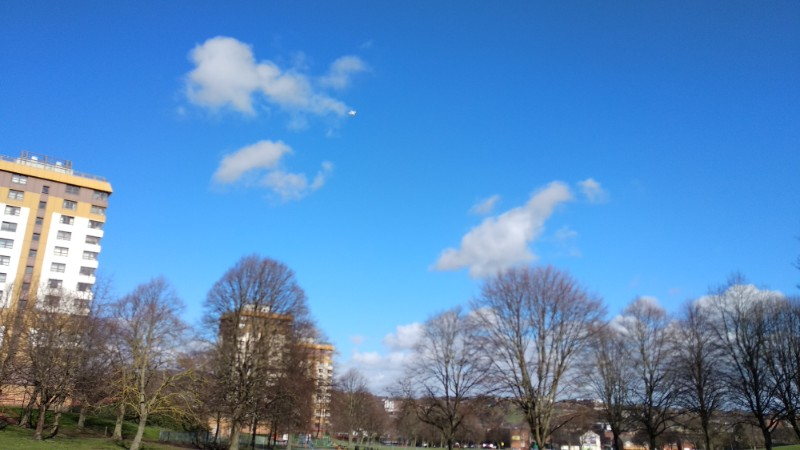drone: (347, 108, 356, 117)
